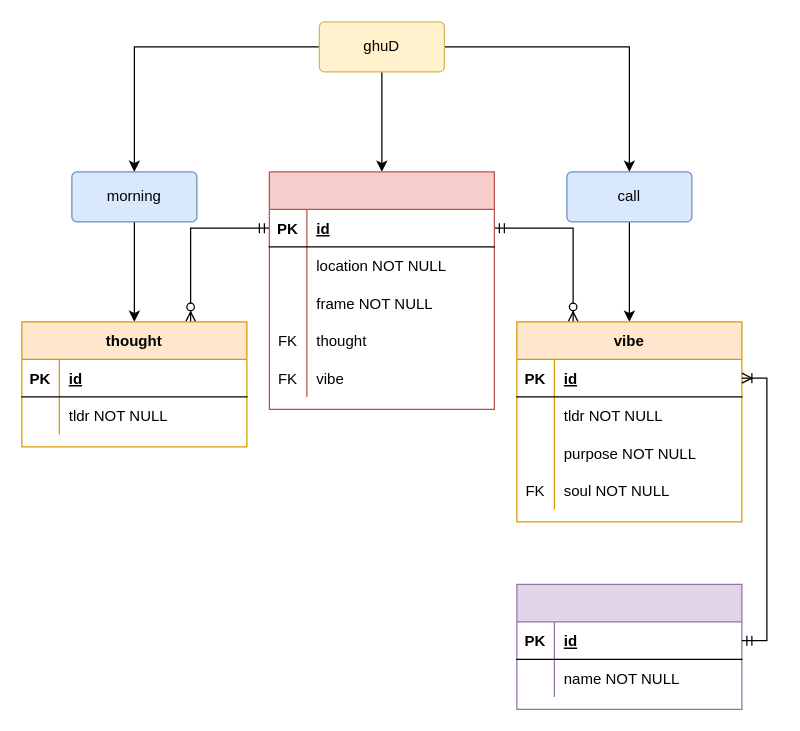
The diagram is 800 pixels wide and 731 high, and some of its shapes have lost their labels. The shapes that lost their labels are listed below. From the top down, each one's box as (x1, y1, x2, y2) in pixels, then its label:
(268, 171, 494, 409): headspace
(516, 583, 742, 709): soul
